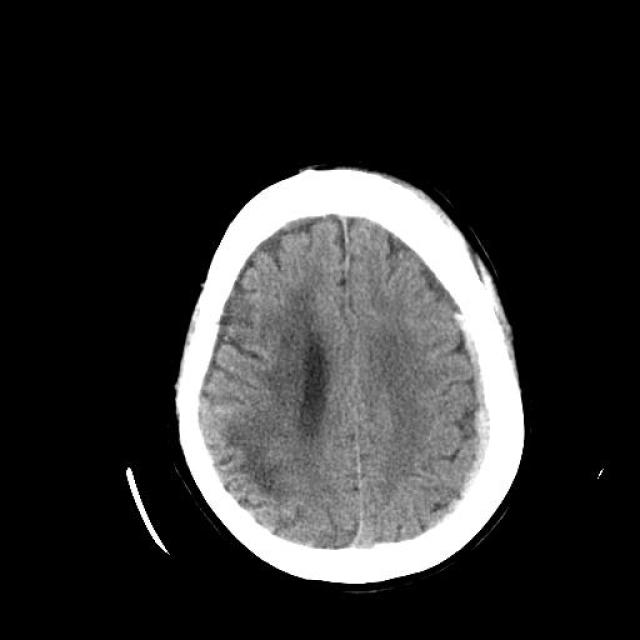Subdural: (441, 311, 500, 529)
